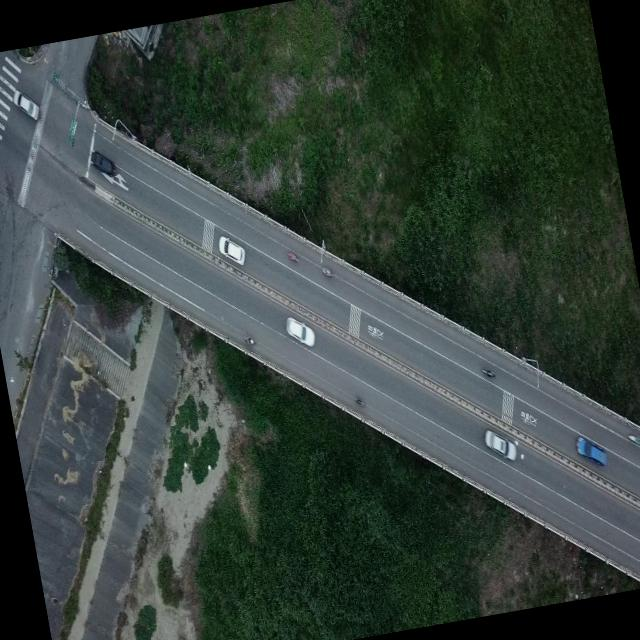bike: (349, 388, 369, 410), (240, 329, 255, 349)
car: (574, 430, 610, 470), (481, 424, 517, 464), (284, 312, 316, 350), (216, 231, 248, 268), (10, 86, 41, 123), (86, 146, 116, 178)
